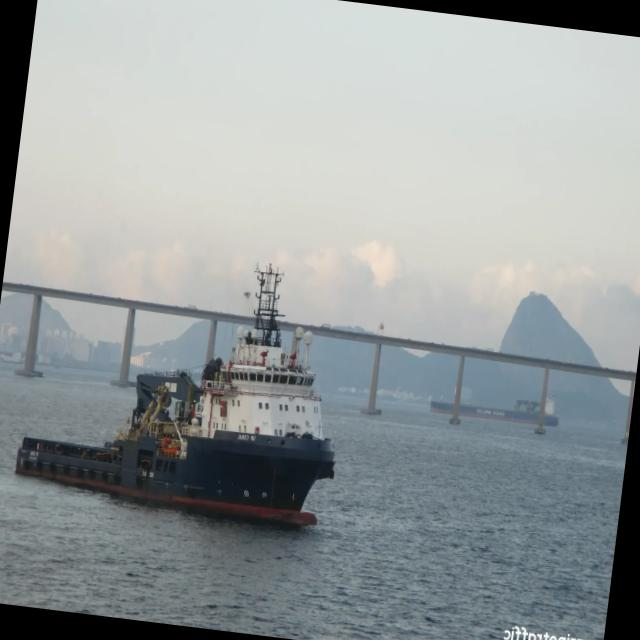Offshore: (15, 265, 335, 528)
